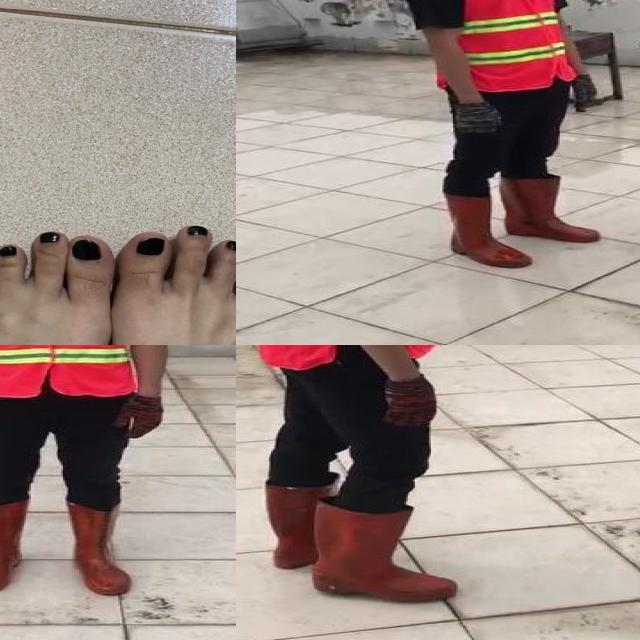Barefoots: (0, 220, 236, 345)
boots: (317, 498, 456, 603), (440, 184, 536, 272), (504, 173, 614, 243), (61, 501, 131, 597), (266, 483, 336, 571), (0, 499, 25, 592)
hand_glove: (385, 377, 436, 426), (115, 396, 166, 441), (448, 100, 504, 138), (567, 72, 597, 114)
head_helmet: (239, 345, 482, 604)
person: (392, 0, 613, 273), (0, 345, 188, 599)
vest: (421, 0, 574, 92), (0, 345, 137, 396)
